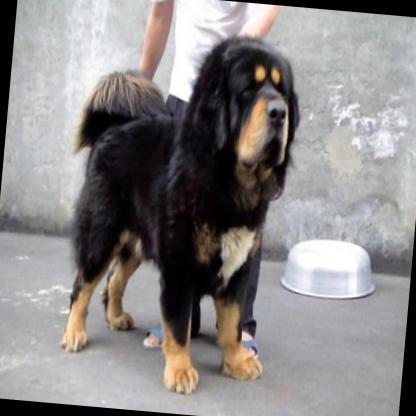Tibetan_mastiff: (52, 23, 309, 400)
